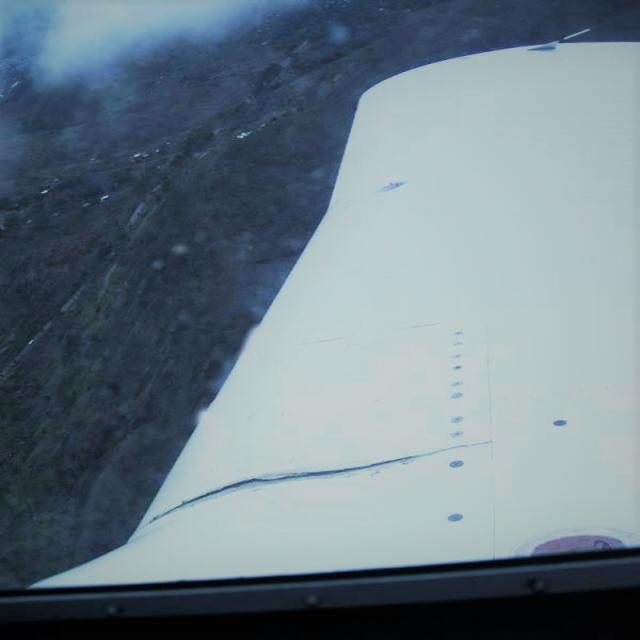crack: (132, 431, 536, 533)
